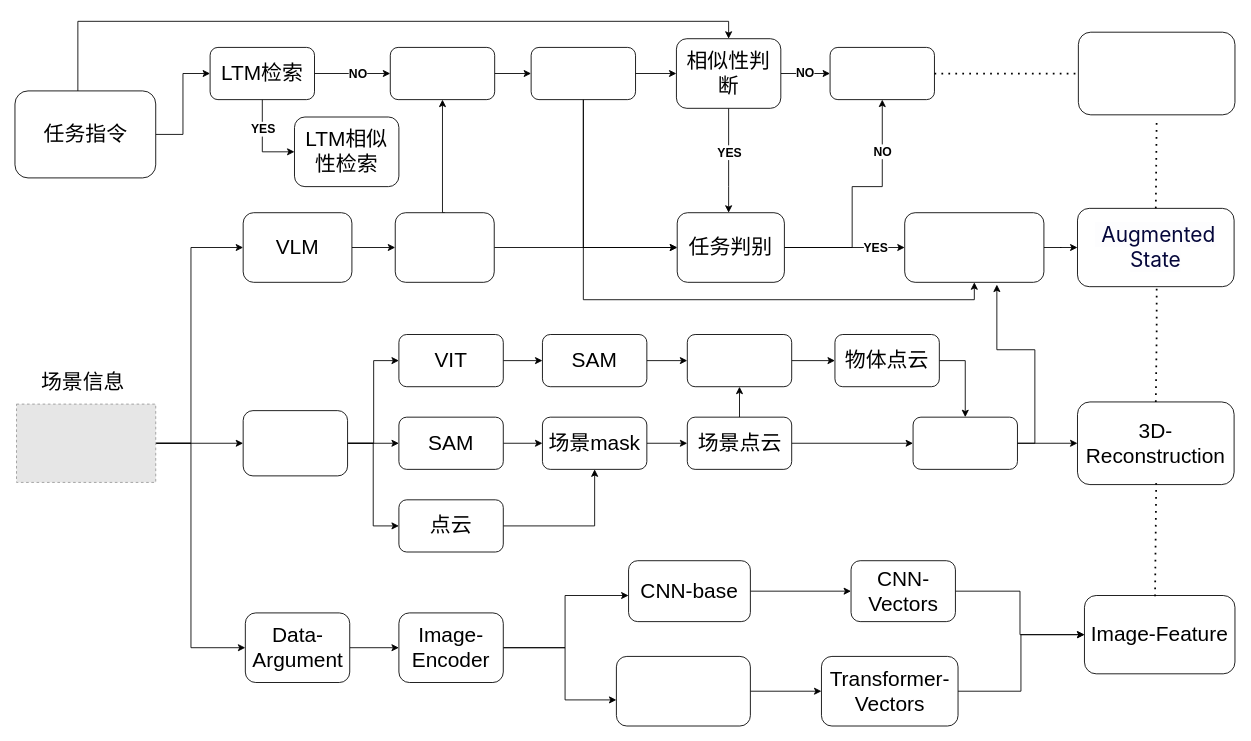
Some shapes in this 1251 by 741 pixel diagram are drawn without their labels. Grey dashed boxes stand in for pictures. The shapes that lost their labels are listed below. From the top down, each one's box as (x1, y1, x2, y2) in pixels, then its label:
(389, 47, 495, 100): LLM
(530, 47, 636, 100): subtasks
(829, 47, 934, 100): rewrite
(1077, 31, 1235, 115): LTM&STM - Writer
(394, 212, 494, 282): 场景描述
(904, 212, 1044, 282): 状态检索LLM
(686, 334, 792, 387): 物体mask
(242, 410, 348, 476): 深度图+RGB图
(912, 416, 1017, 469): 场景观察
(616, 656, 750, 726): Transformer-base
